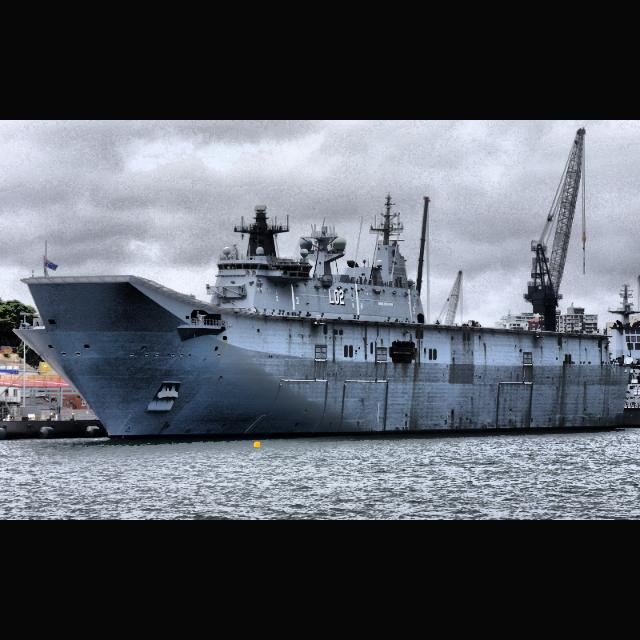combat_vessel: (11, 194, 634, 446)
